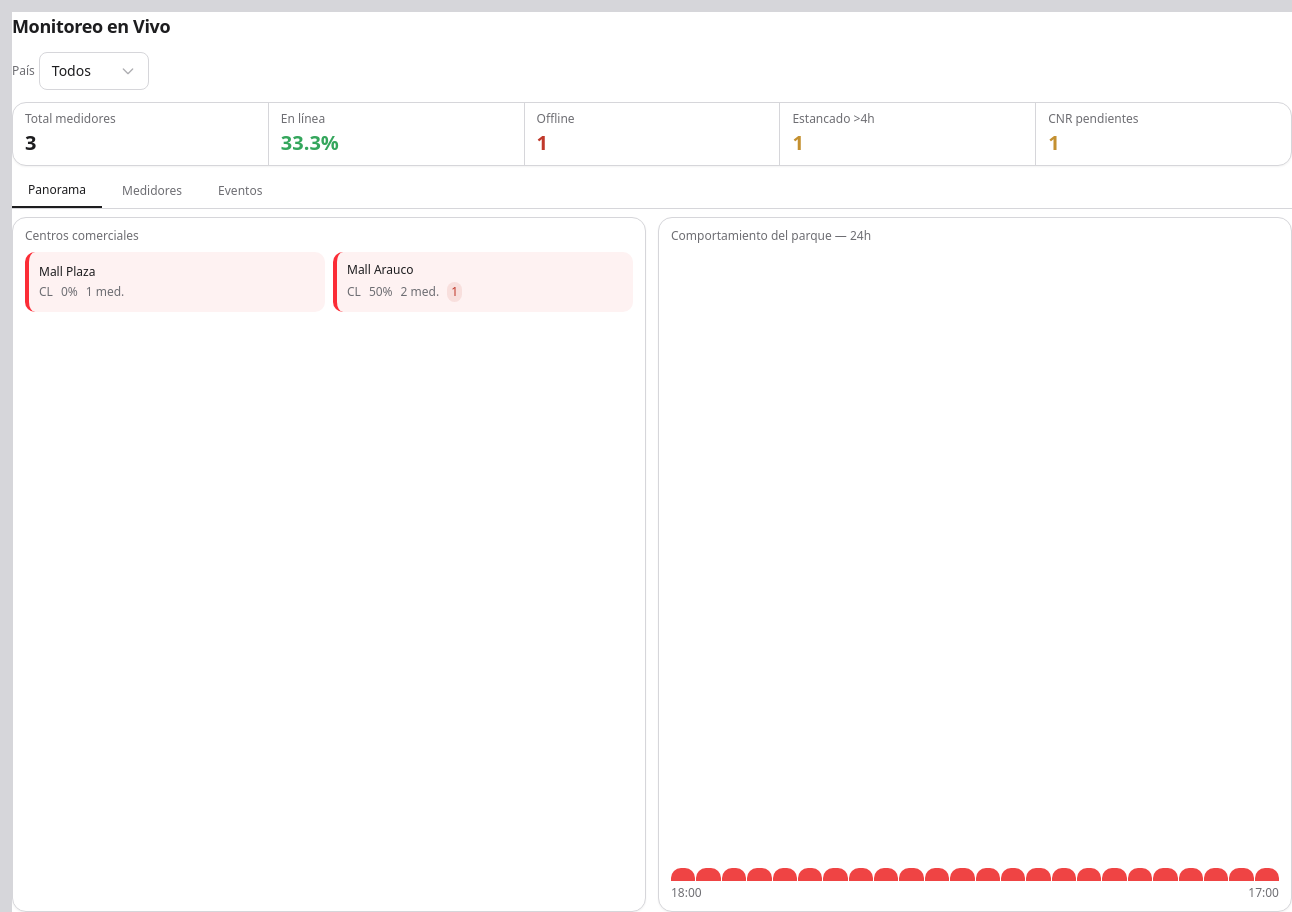
Test: MonitoreoVivoPage › mall interaction › navigates to medidores tab on mall click
Click the text "Mall Arauco" at (380, 270), box x1=347 y1=261 x2=414 y2=278
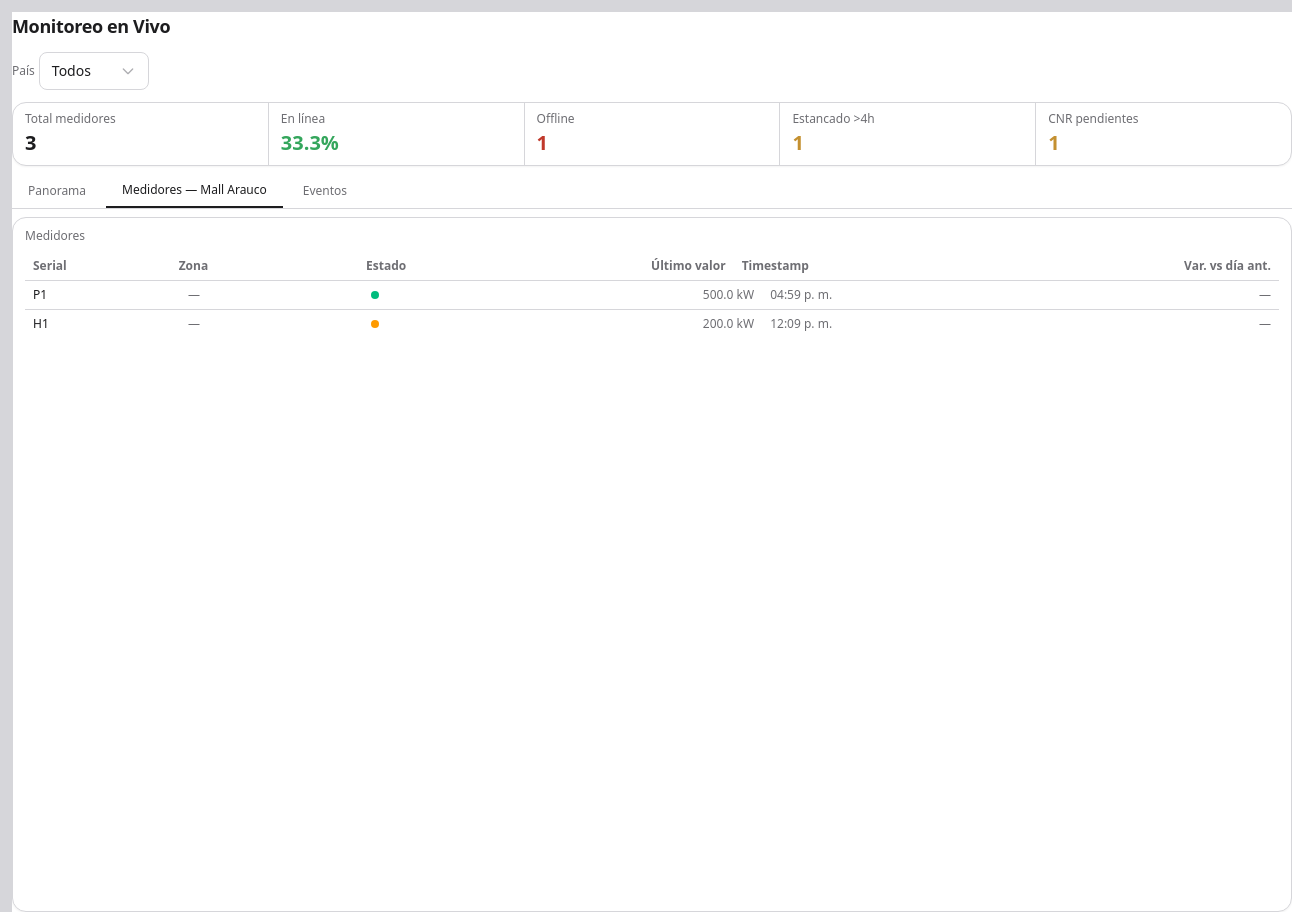
Expected: the text "Medidores" is shown, x1=25 y1=227 x2=85 y2=244
